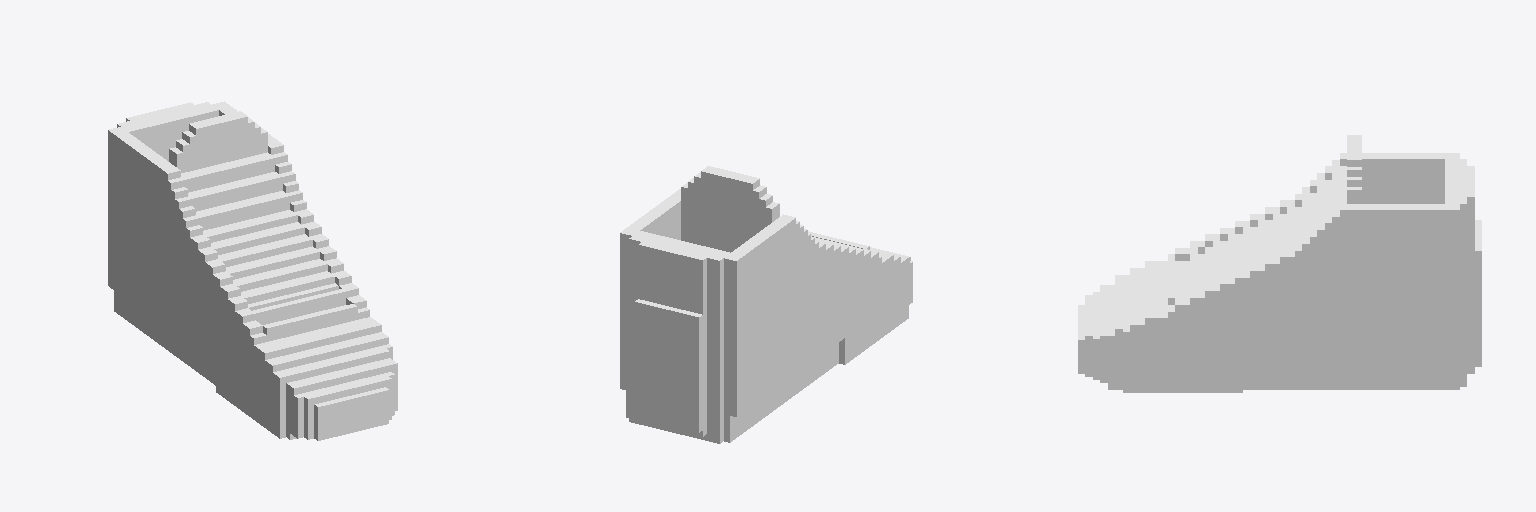
The model's file is vans.obj.
3 views of the same model, side by side, from view 1: azimuth 30°, elevation 25°; view 2: azimuth 150°, elevation 25°; view 3: azimuth 270°, elevation 25° (orthographic).
Size of the model in its own units: 18 by 32 by 54.